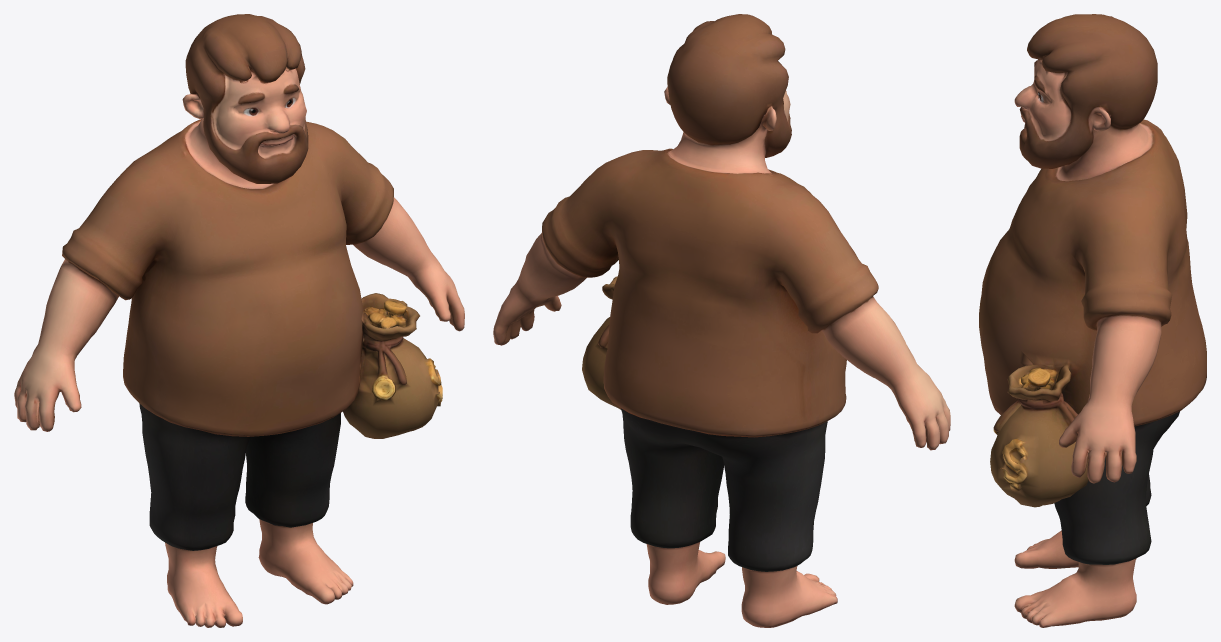
The model's file is lai-buon.748aaa97.glb.
3 views of the same model, side by side, from view 1: azimuth 30°, elevation 25°; view 2: azimuth 150°, elevation 25°; view 3: azimuth 270°, elevation 25° (orthographic).
Parts seen in each view (by area): view 1: tripo_node_ed28d5dd-401c-41cd-b8af-07f28e129c84; view 2: tripo_node_ed28d5dd-401c-41cd-b8af-07f28e129c84; view 3: tripo_node_ed28d5dd-401c-41cd-b8af-07f28e129c84.
Boxes of the visible parts, x1,y1,x2,y2 form: tripo_node_ed28d5dd-401c-41cd-b8af-07f28e129c84: [14, 14, 464, 627]; tripo_node_ed28d5dd-401c-41cd-b8af-07f28e129c84: [493, 14, 950, 627]; tripo_node_ed28d5dd-401c-41cd-b8af-07f28e129c84: [979, 14, 1206, 627].
Size of the model in its own units: 0.7783 by 0.9772 by 0.3537.
1 material, 1 textured.
